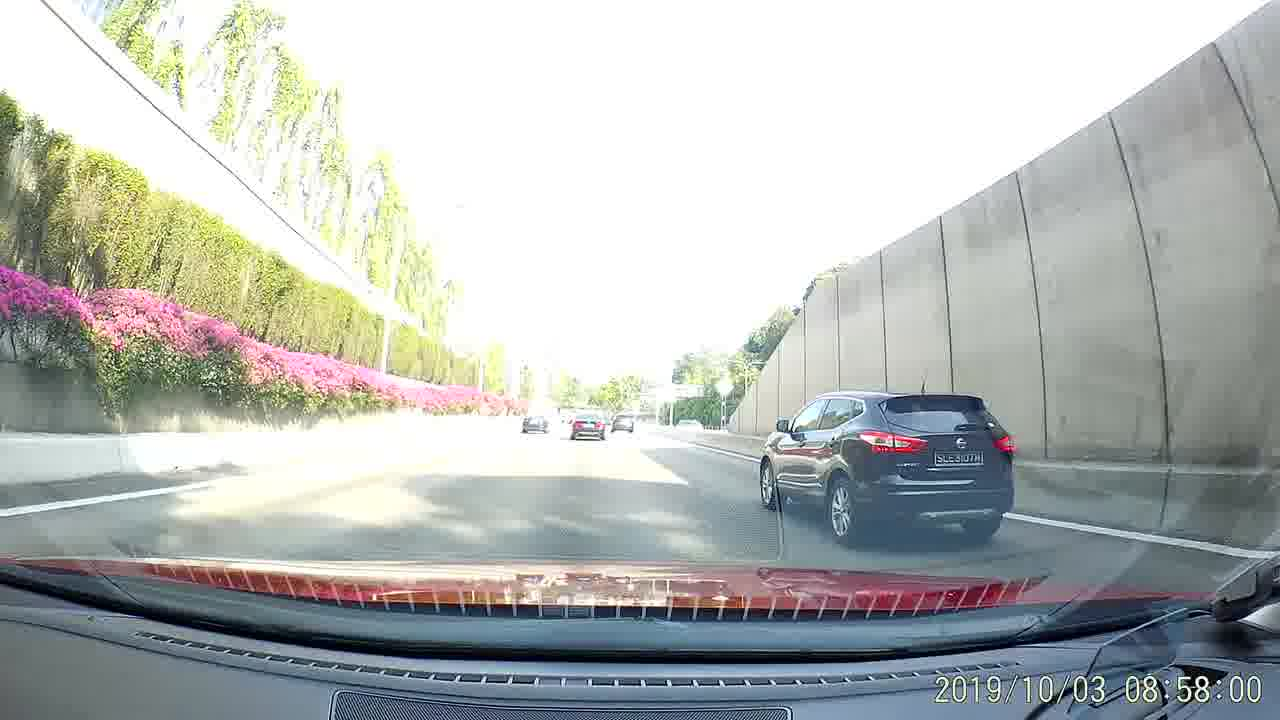car: (762, 388, 1015, 548), (566, 411, 606, 441), (611, 412, 637, 437), (523, 411, 550, 433)
